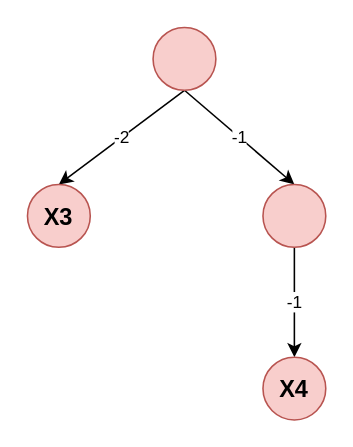
Some shapes in this 353 by 447 pixel diagram are drawn without their labels. Each missing label, with the box of its shape:
X1: (152, 26, 216, 90)
X2: (261, 183, 326, 247)
